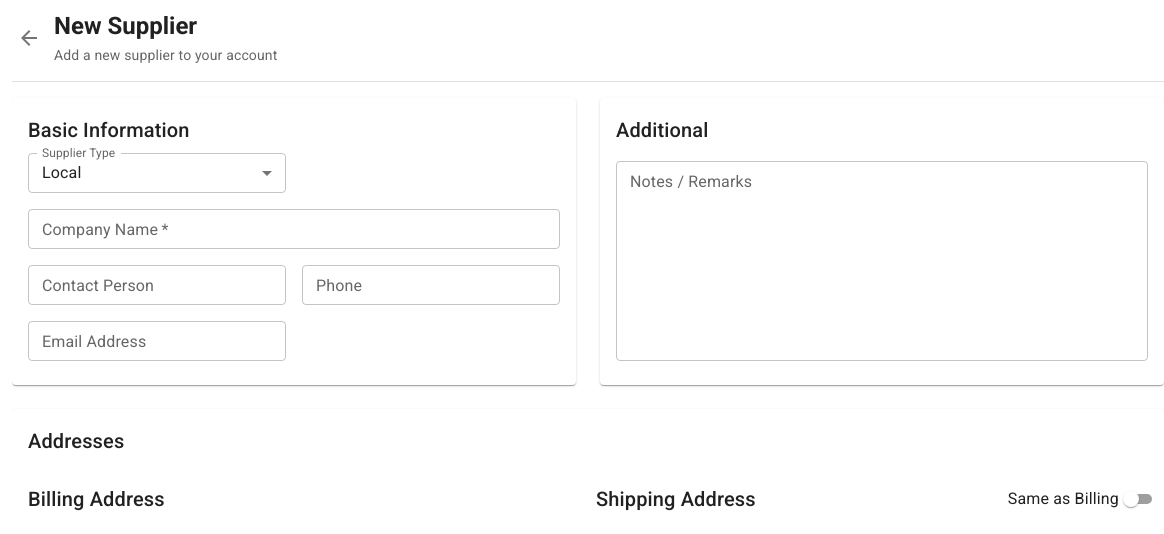
Scenario: SupplierFormPage - company name duplicate check › shows duplicate error when company name already exists
This screenshot has width=1164, height=534.
Type "Taken Corp" into the field labelled "Company Name *". click: (294, 229)
box: [28,209,560,249]
Wait 500 ms
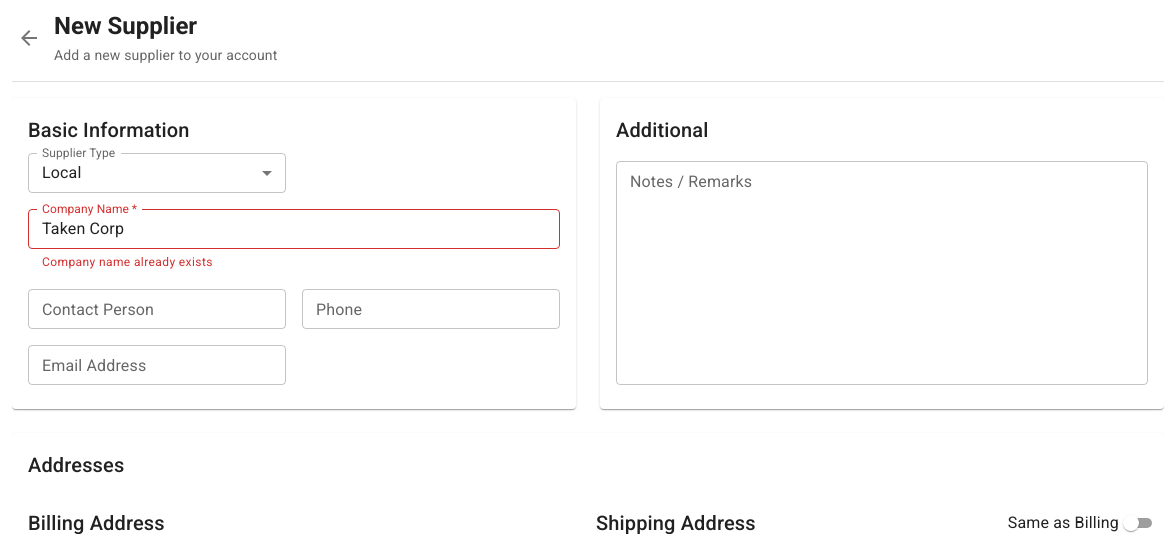
Check: the text "Company name already exists" is shown, box [42,255,213,269]
